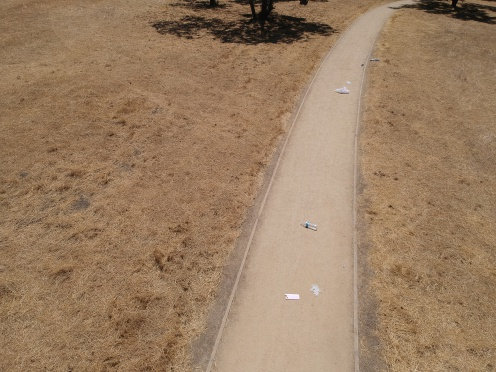bottle: (298, 219, 319, 232)
plastic bag: (333, 83, 352, 95)
